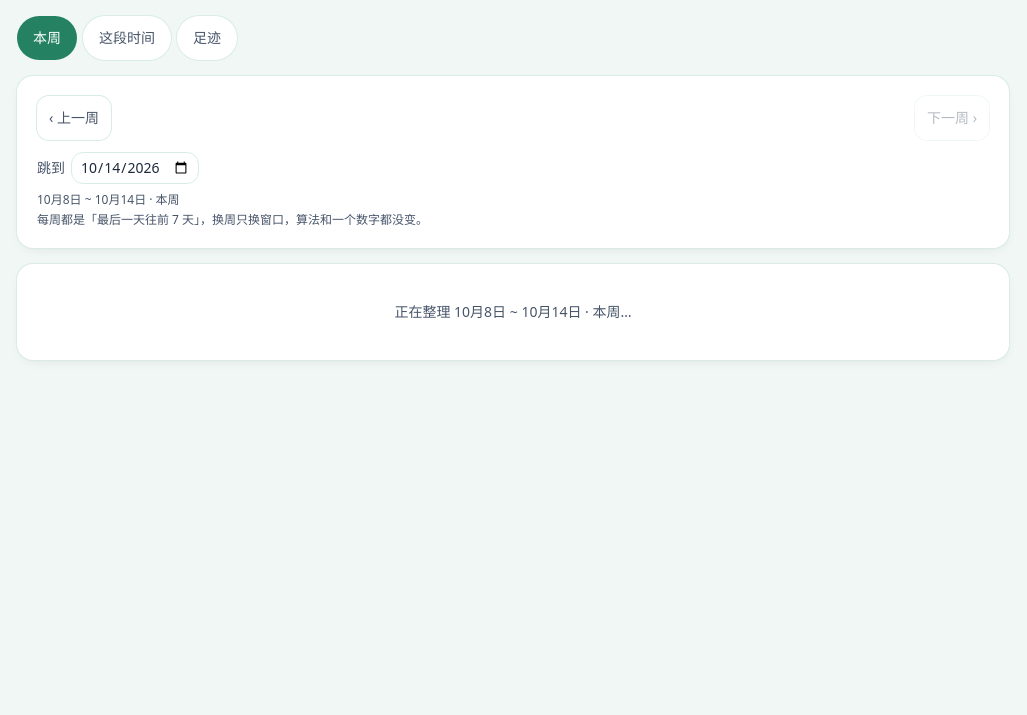
Test: 记录足迹日历（C-1） › ★ 月历按当月天数渲染；有记录的日期点亮，无记录的日期留白（无填充 / 不是红色 / 无「未完成」）
Click the tab "足迹". click: click(207, 38)
box: [177,16,237,60]
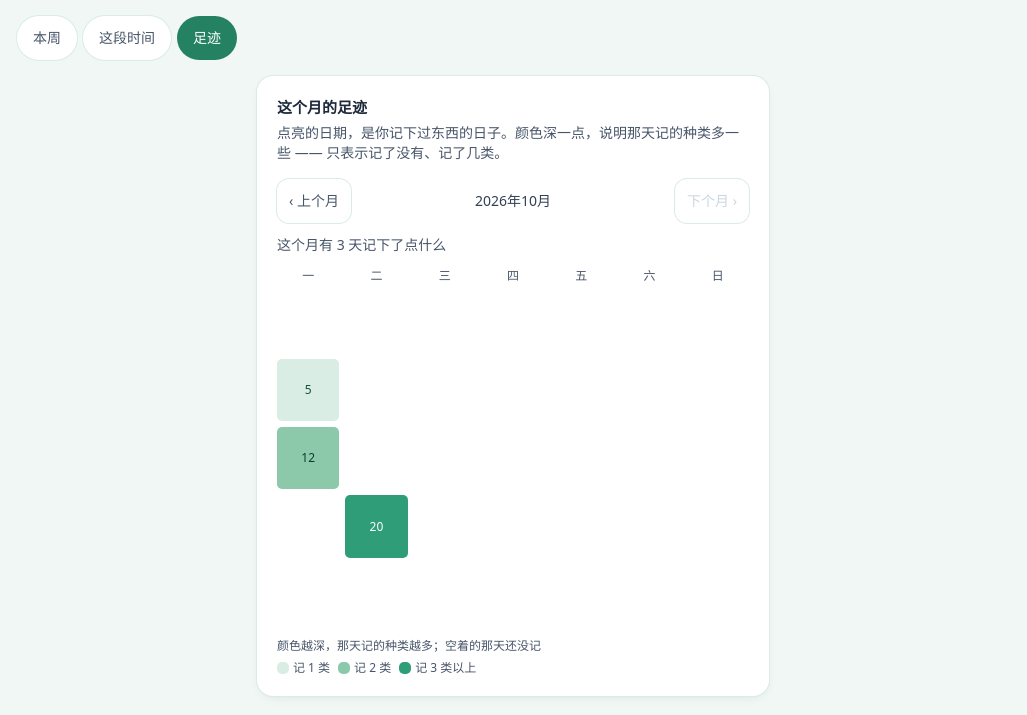
Result: the element with test id "footprint-grid" is shown at [277,266,749,626]
